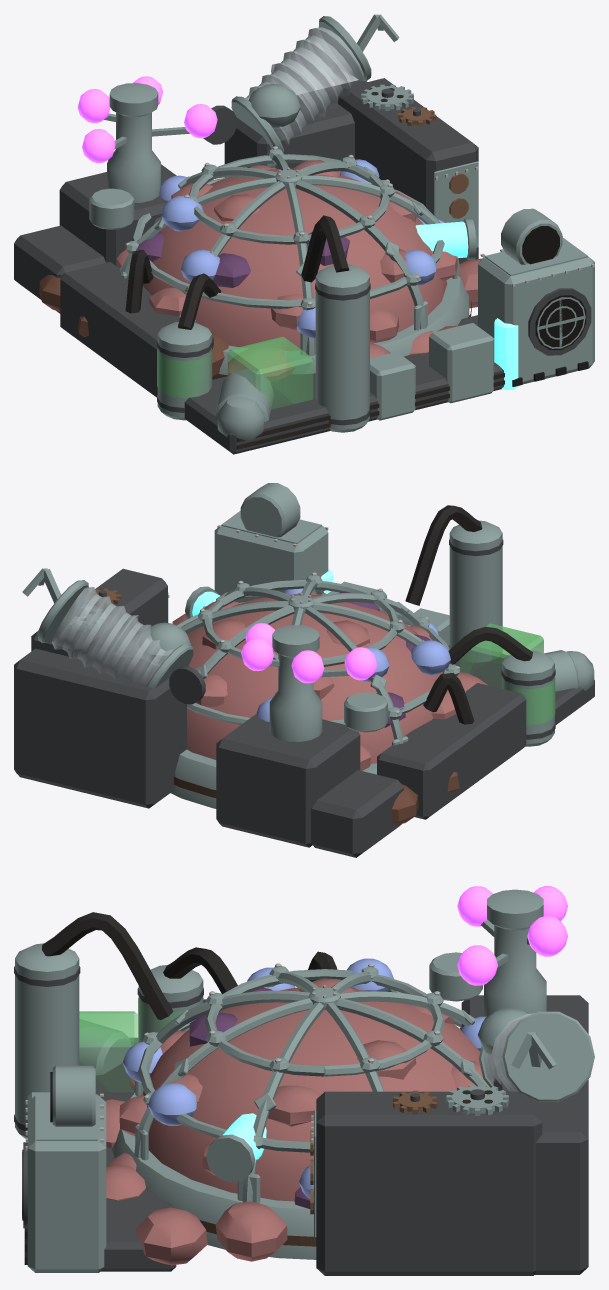
The model's file is biolab.glb.
The picture shows the model from 3 angles, top to bottom: view 1: azimuth 30°, elevation 25°; view 2: azimuth 150°, elevation 25°; view 3: azimuth 270°, elevation 25°; orthographic projection. The views are drawn at different scales.
Parts seen in each view (by area): view 1: body, anim_bellows_biolab, anim_glow_biolab, anim_vial_biolab_fe, anim_vial_biolab_fw, anim_vial_biolab_bw; view 2: body, anim_bellows_biolab, anim_glow_biolab, anim_vial_biolab_fw, anim_vial_biolab_be, anim_vial_biolab_bw; view 3: body, anim_bellows_biolab, anim_glow_biolab, anim_vial_biolab_fe, anim_vial_biolab_be, anim_vial_biolab_fw, anim_vial_biolab_bw.
Part boxes in pixels (<box>): body: <box>14,63,594,454</box>; anim_bellows_biolab: <box>271,14,399,116</box>; anim_glow_biolab: <box>159,159,444,339</box>; anim_vial_biolab_fe: <box>151,104,217,138</box>; anim_vial_biolab_fw: <box>82,129,126,162</box>; anim_vial_biolab_bw: <box>77,89,115,123</box>; body: <box>14,483,594,857</box>; anim_bellows_biolab: <box>22,568,138,673</box>; anim_glow_biolab: <box>256,588,450,721</box>; anim_vial_biolab_fw: <box>320,647,377,680</box>; anim_vial_biolab_be: <box>241,638,279,671</box>; anim_vial_biolab_bw: <box>291,650,324,683</box>; body: <box>14,889,588,1275</box>; anim_bellows_biolab: <box>491,1011,594,1101</box>; anim_glow_biolab: <box>122,958,486,1199</box>; anim_vial_biolab_fe: <box>457,945,508,985</box>; anim_vial_biolab_be: <box>527,916,567,956</box>; anim_vial_biolab_fw: <box>457,886,494,936</box>; anim_vial_biolab_bw: <box>534,886,567,921</box>.
Size of the model in its own units: 4.97 by 2.44 by 5.4.
